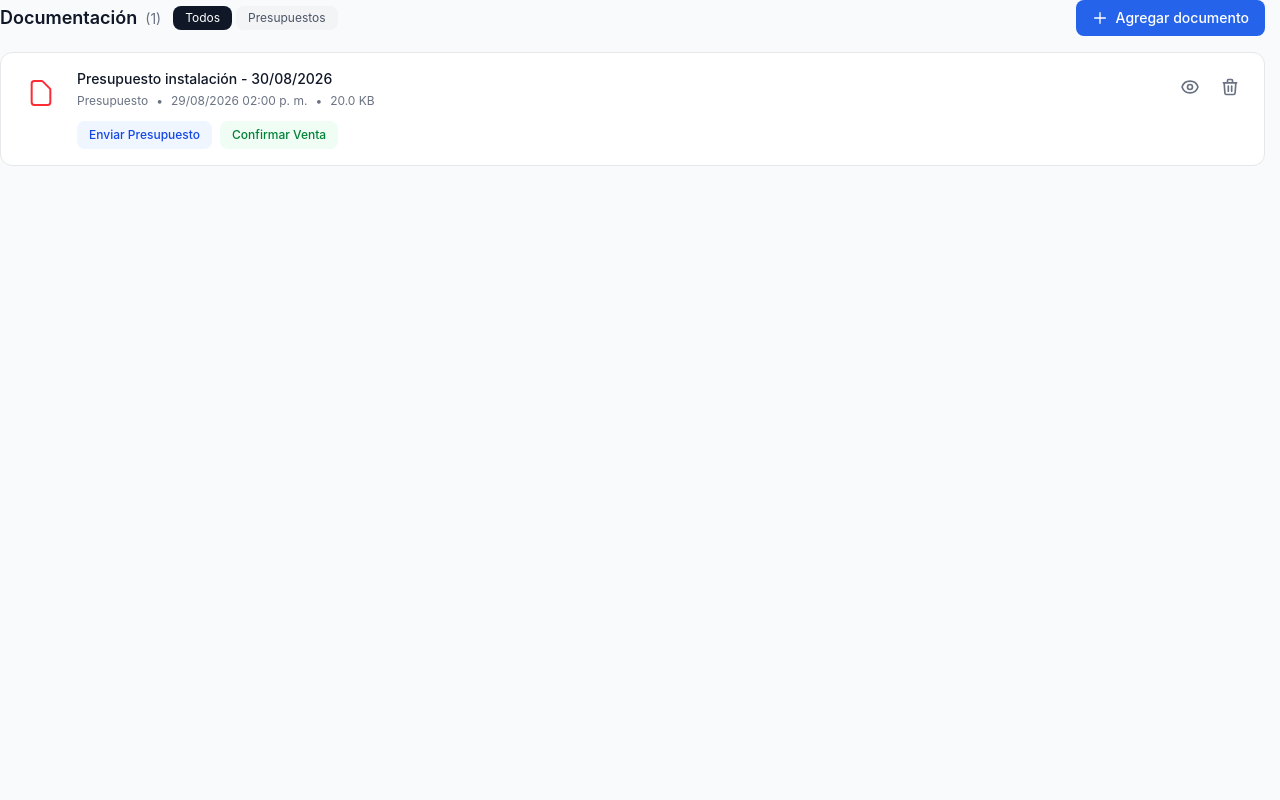
LeadDocumentationTab — presupuesto delivery › sends WhatsApp first with sanitized phone and leadId, then doc-action, reloads quotes and notifies the parent
This screenshot has width=1280, height=800.
What coordinates should you click on to do the following:
click the button "Enviar Presupuesto"
I would click on:
 (144, 135)
Its box is [77,121,212,149].
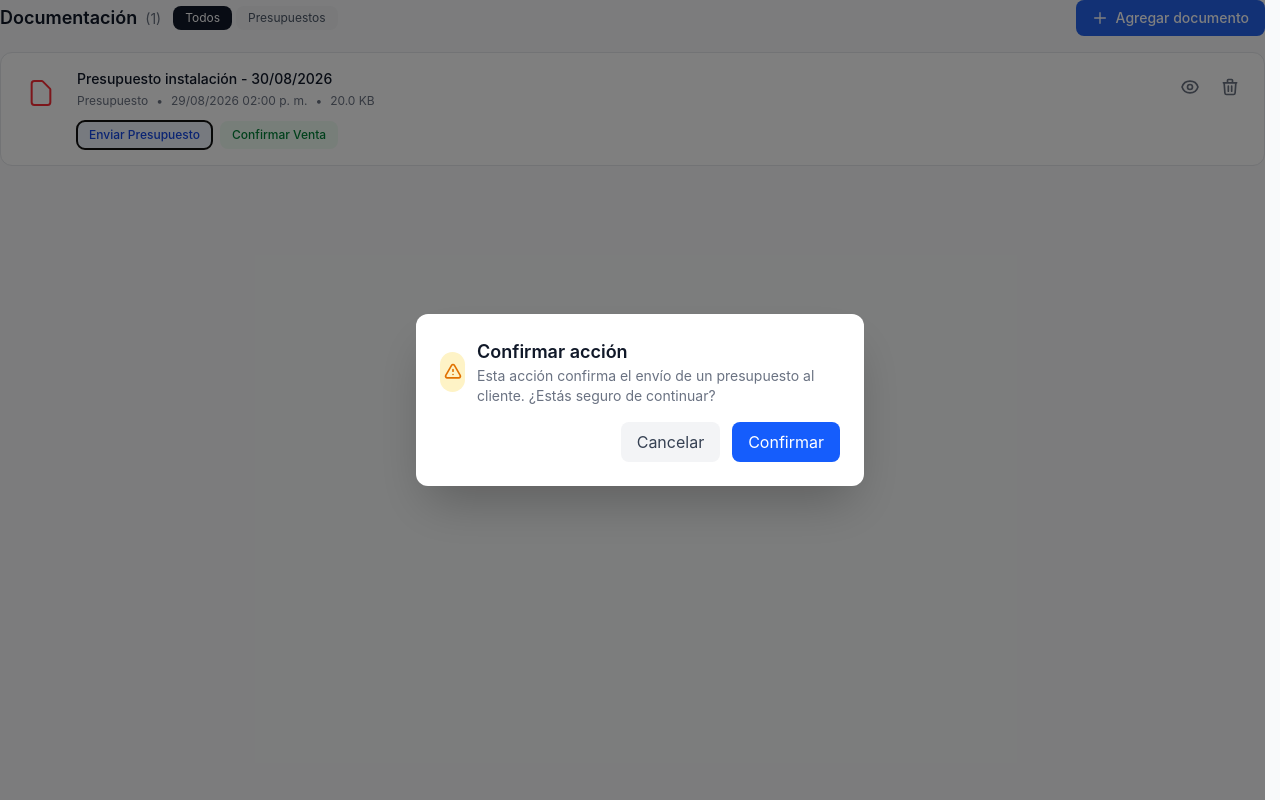
What coordinates should you click on to do the following:
click the button "Confirmar"
I would click on:
 (786, 442)
Its box is [732,422,840,462].
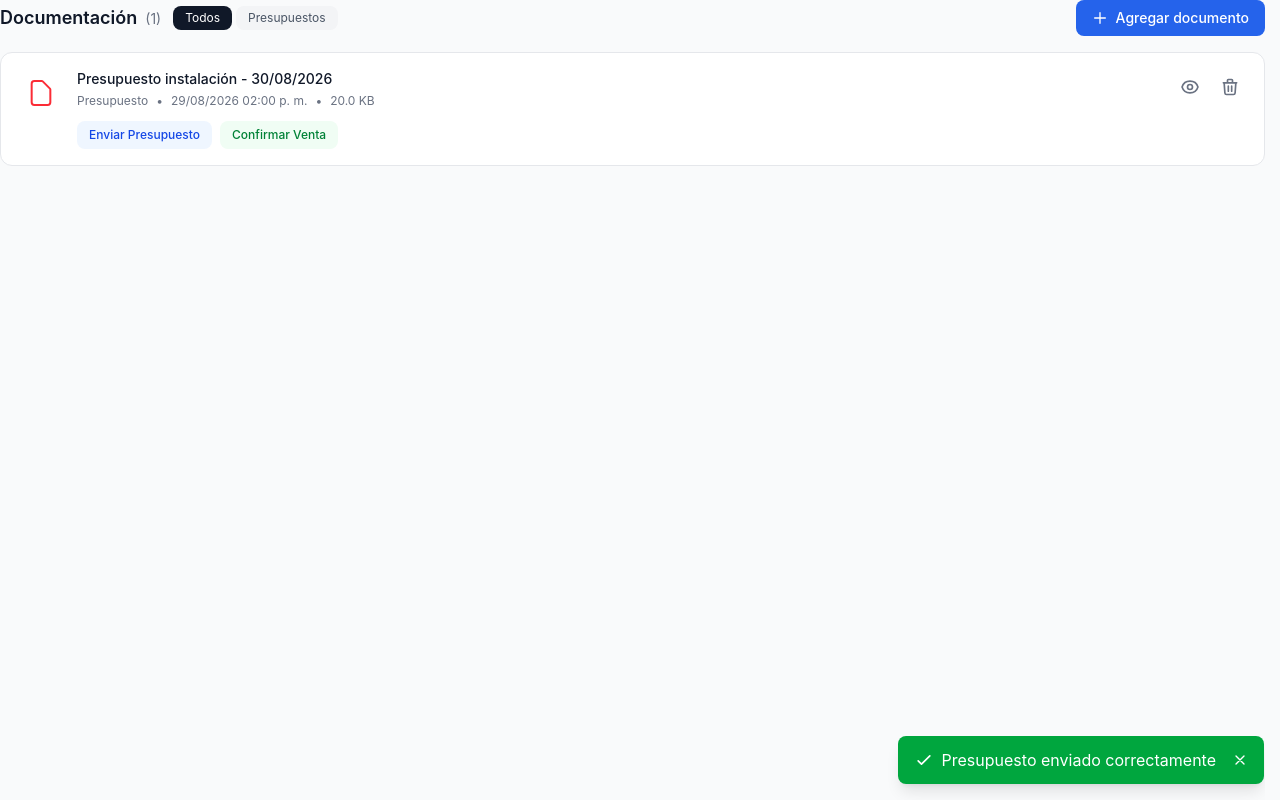
Now the text "Presupuesto enviado correctamente" is shown, box [942,748,1216,772]
